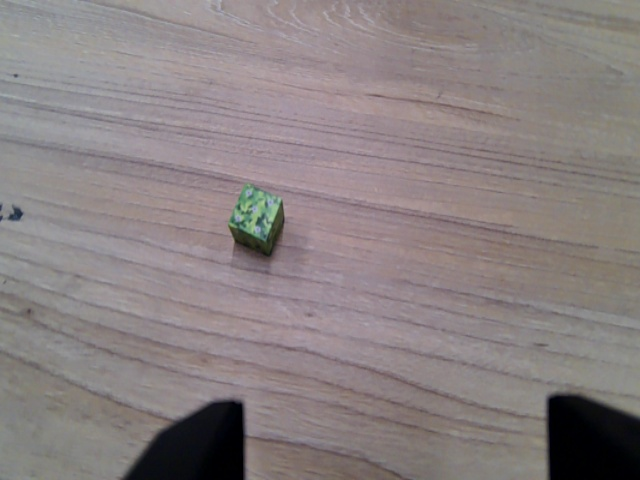grass: (230, 182, 285, 255)
